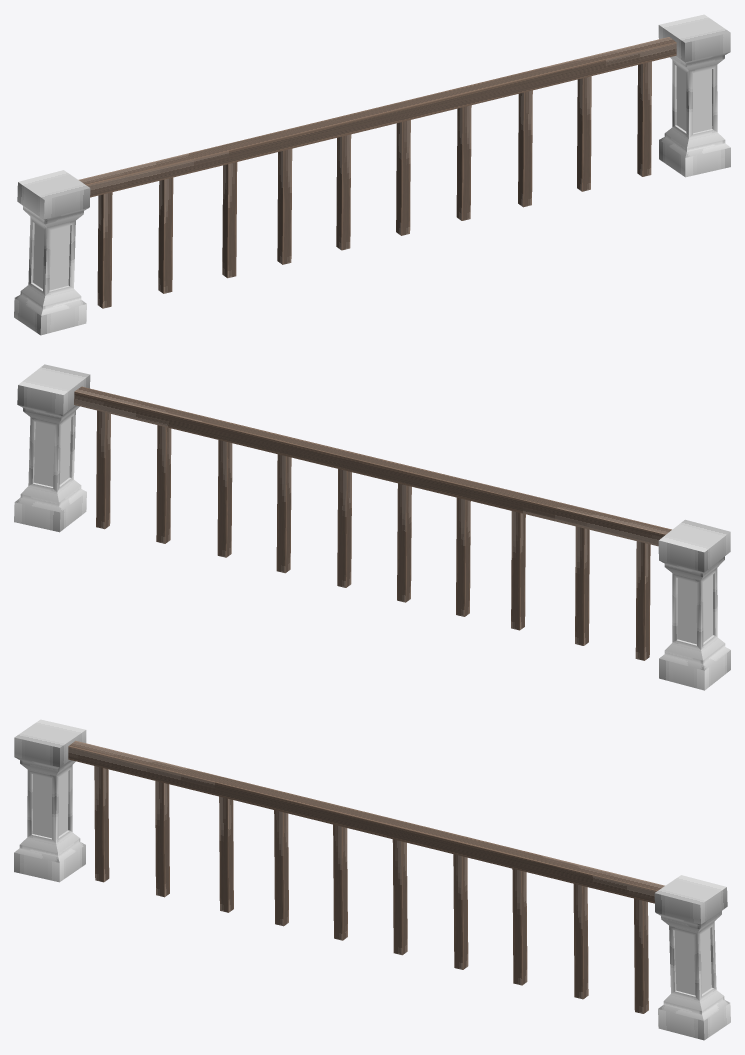
File: SM_AlchemyS_Railings.fbx
The picture shows the model from 3 angles, top to bottom: view 1: azimuth 30°, elevation 25°; view 2: azimuth 150°, elevation 25°; view 3: azimuth 330°, elevation 25°; orthographic projection.
Parts seen in each view (by area): view 1: SM_AlchemyS_Railings_LOD0; view 2: SM_AlchemyS_Railings_LOD0; view 3: SM_AlchemyS_Railings_LOD0.
Part boxes in pixels (x1,y1,x2,y2): SM_AlchemyS_Railings_LOD0: (14, 14, 730, 335); SM_AlchemyS_Railings_LOD0: (14, 364, 730, 690); SM_AlchemyS_Railings_LOD0: (14, 719, 730, 1040).
Bounding box in the file's own units: 585 × 41.69 × 112.
